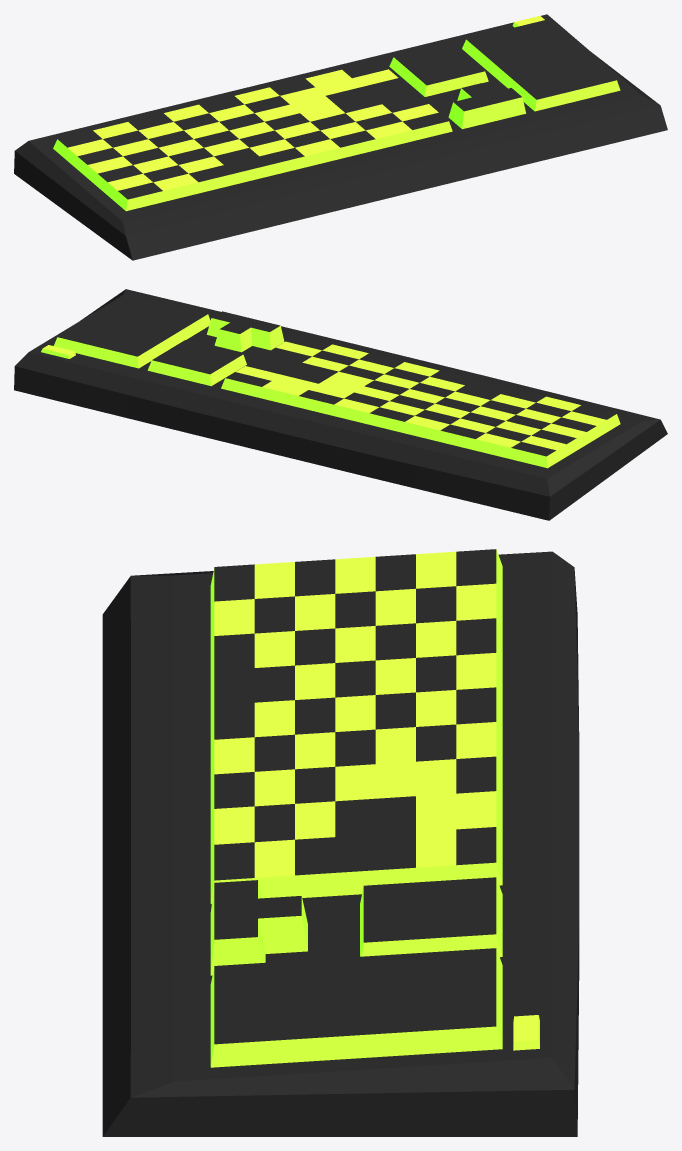
The model's file is electronics_pc-keyboard-gaming.fbx.
3 views of the same model, one above another, from view 1: azimuth 30°, elevation 25°; view 2: azimuth 150°, elevation 25°; view 3: azimuth 270°, elevation 25° (orthographic). The views are drawn at different scales.
Parts seen in each view (by area): view 1: electronics_pc_keyboard_gaming; view 2: electronics_pc_keyboard_gaming; view 3: electronics_pc_keyboard_gaming.
Part boxes in pixels (x1,y1,x2,y2): electronics_pc_keyboard_gaming: (14, 14, 667, 260); electronics_pc_keyboard_gaming: (14, 289, 667, 520); electronics_pc_keyboard_gaming: (102, 549, 579, 1136).
Bounding box in the file's own units: 200 × 15.68 × 77.13.
